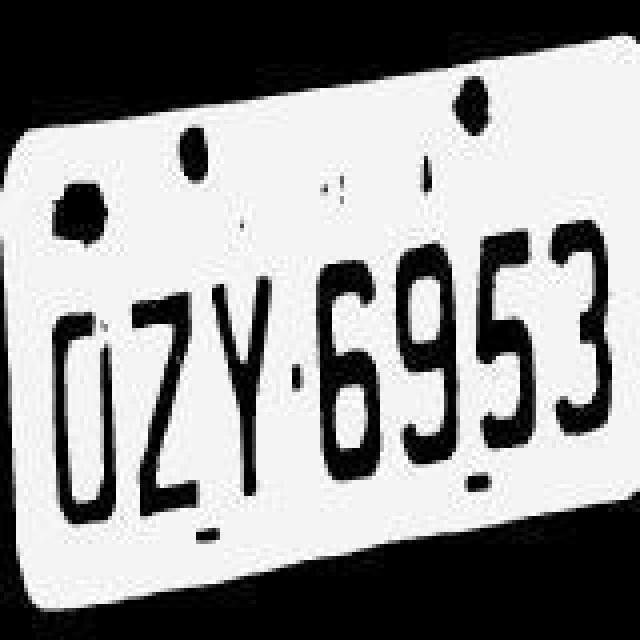3: (546, 204, 622, 460)
5: (466, 208, 542, 480)
6: (310, 246, 386, 506)
9: (396, 230, 468, 498)
O: (48, 290, 128, 558)
Y: (204, 258, 276, 510)
Z: (120, 282, 200, 550)
